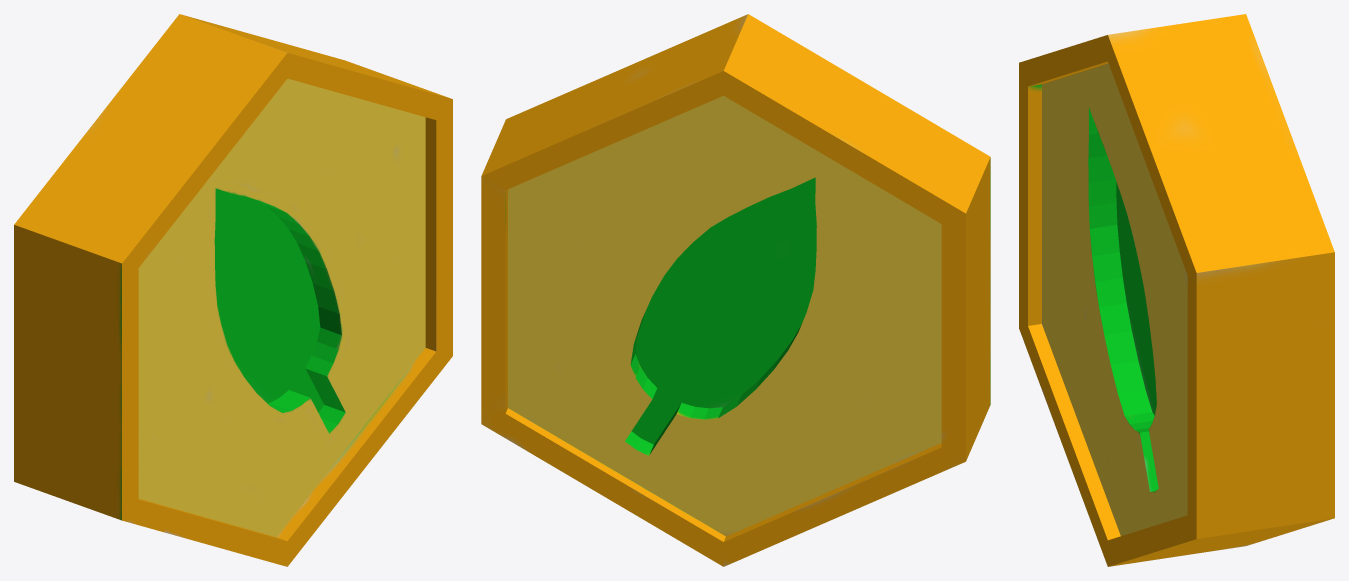
Rendered from coin.fbx.
The picture shows the model from 3 angles, left to right: view 1: azimuth 30°, elevation 25°; view 2: azimuth 150°, elevation 25°; view 3: azimuth 270°, elevation 25°; orthographic projection. The views are drawn at different scales.
Visible parts, largest first — view 1: Coin; view 2: Coin; view 3: Coin.
Part boxes in pixels (box(x1,y1,x2,y2)): Coin: box(14, 14, 452, 566); Coin: box(481, 14, 990, 566); Coin: box(1019, 14, 1334, 566).
Bounding box in the file's own units: 44.81 × 77.64 × 83.33.
Materials: 1 (1 with a texture image).
